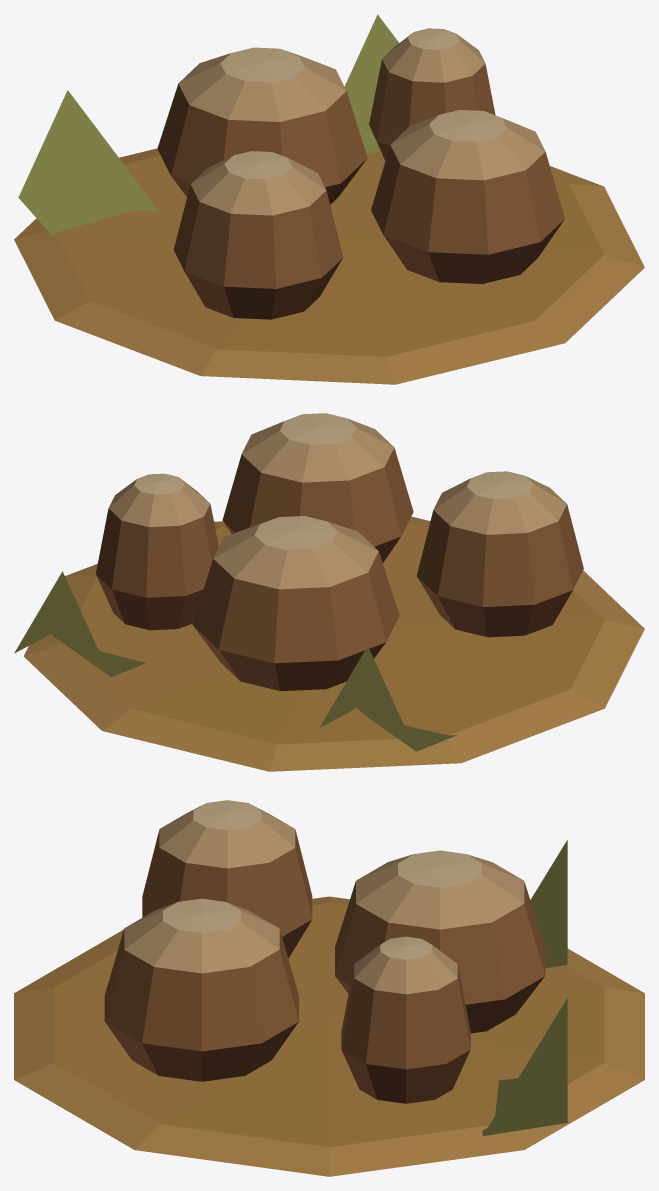
Rendered from WoodlandConkers.glb.
3 renders of one model, top to bottom at view 1: azimuth 30°, elevation 25°; view 2: azimuth 150°, elevation 25°; view 3: azimuth 270°, elevation 25°, orthographic. The views are drawn at different scales.
Parts seen in each view (by area): view 1: WoodlandConkers_Arrangement; view 2: WoodlandConkers_Arrangement; view 3: WoodlandConkers_Arrangement.
Boxes of the visible parts, x1=… form: WoodlandConkers_Arrangement: x1=14, y1=14, x2=644, y2=384; WoodlandConkers_Arrangement: x1=14, y1=413, x2=644, y2=771; WoodlandConkers_Arrangement: x1=14, y1=800, x2=644, y2=1176.
Bounding box in the file's own units: 0.78 × 0.223 × 0.7418.
